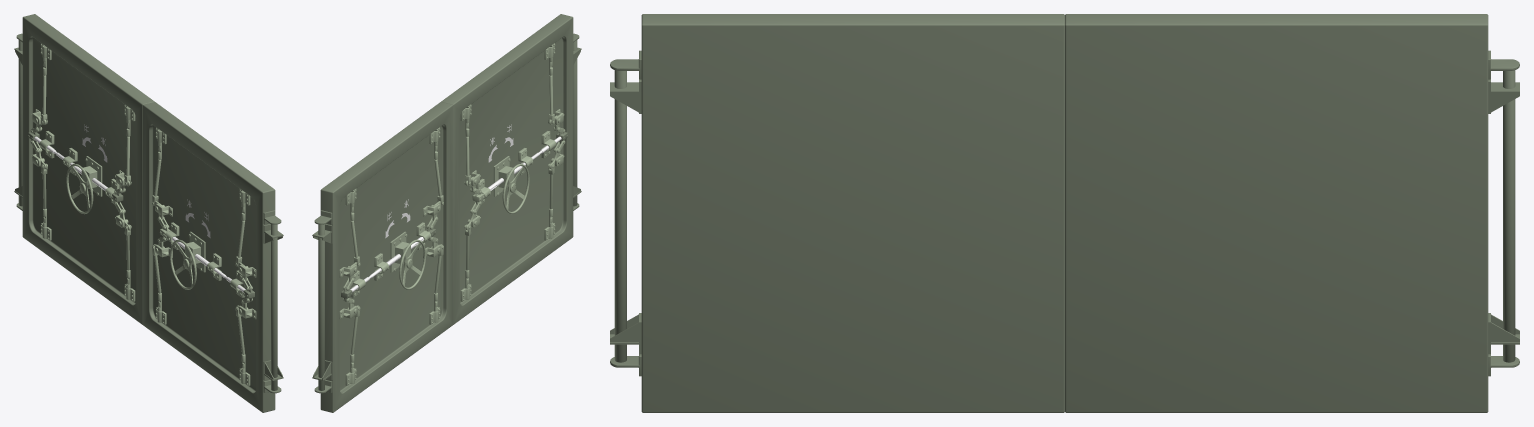
File: 双扇人防门.glb
The picture shows the model from 3 angles, left to right: view 1: azimuth 30°, elevation 25°; view 2: azimuth 150°, elevation 25°; view 3: azimuth 270°, elevation 25°; orthographic projection. The views are drawn at different scales.
Parts seen in each view (by area): view 1: 64双扇人防门.002, 64双扇人防门.001, 柱体.637, 柱体.639, 柱体.633, 柱体.631, 柱体.638, 立方体.315, 柱体.632, 立方体.312, 立方体.317, 圆环.173 (+1 smaller); view 2: 64双扇人防门.001, 64双扇人防门.002, 柱体.631, 柱体.633, 柱体.639, 柱体.637, 柱体.632, 立方体.310, 柱体.638, 立方体.317, 立方体.312, 圆环.175 (+1 smaller); view 3: 64双扇人防门.001, 64双扇人防门.002, 柱体.632, 柱体.638, 立方体.310, 立方体.315.
Part boxes in pixels (x1=…): 64双扇人防门.002: x1=143, y1=102, x2=275, y2=412; 64双扇人防门.001: x1=22, y1=14, x2=154, y2=324; 柱体.637: x1=235, y1=188, x2=256, y2=385; 柱体.639: x1=152, y1=127, x2=172, y2=324; 柱体.633: x1=114, y1=104, x2=135, y2=301; 柱体.631: x1=30, y1=43, x2=51, y2=240; 柱体.638: x1=271, y1=224, x2=277, y2=390; 立方体.315: x1=263, y1=210, x2=283, y2=393; 柱体.632: x1=18, y1=40, x2=22, y2=206; 立方体.312: x1=81, y1=156, x2=102, y2=196; 立方体.317: x1=185, y1=231, x2=205, y2=272; 圆环.173: x1=66, y1=164, x2=93, y2=214; 64双扇人防门.001: x1=320, y1=102, x2=452, y2=412; 64双扇人防门.002: x1=441, y1=14, x2=573, y2=324; 柱体.631: x1=339, y1=188, x2=360, y2=385; 柱体.633: x1=423, y1=127, x2=443, y2=324; 柱体.639: x1=460, y1=104, x2=481, y2=301; 柱体.637: x1=544, y1=43, x2=565, y2=240; 柱体.632: x1=318, y1=224, x2=324, y2=390; 立方体.310: x1=312, y1=210, x2=332, y2=393; 柱体.638: x1=573, y1=40, x2=577, y2=206; 立方体.317: x1=493, y1=156, x2=514, y2=196; 立方体.312: x1=390, y1=231, x2=410, y2=272; 圆环.175: x1=502, y1=164, x2=529, y2=214; 64双扇人防门.001: x1=1065, y1=14, x2=1488, y2=412; 64双扇人防门.002: x1=641, y1=14, x2=1064, y2=412; 柱体.632: x1=1503, y1=70, x2=1515, y2=362; 柱体.638: x1=614, y1=70, x2=626, y2=362; 立方体.310: x1=1488, y1=50, x2=1519, y2=376; 立方体.315: x1=610, y1=50, x2=641, y2=376.
Bounding box in the file's own units: 0.3525 × 3 × 6.36.
